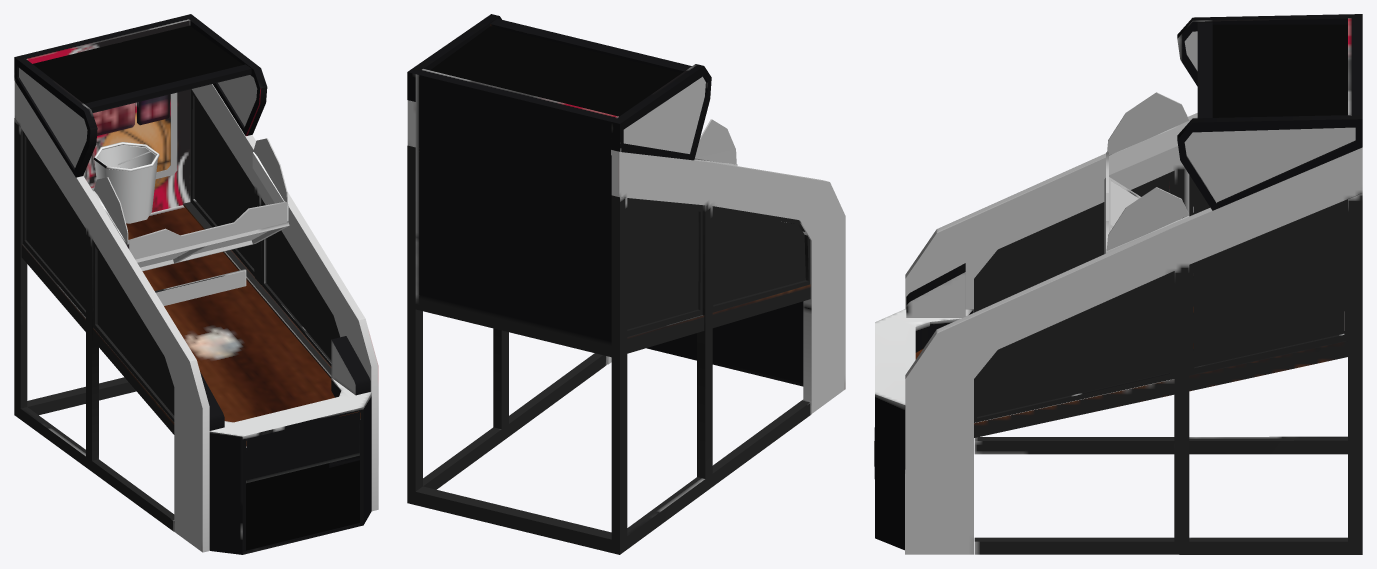
The model's file is LC_3117_Game_MachineE_LOD1.FBX.
3 views of the same model, side by side, from view 1: azimuth 30°, elevation 25°; view 2: azimuth 150°, elevation 25°; view 3: azimuth 270°, elevation 25° (orthographic). The views are drawn at different scales.
Parts seen in each view (by area): view 1: LC_3117_Game_MachineE_LOD1; view 2: LC_3117_Game_MachineE_LOD1; view 3: LC_3117_Game_MachineE_LOD1.
Boxes of the visible parts, left/top/right/bottom form: LC_3117_Game_MachineE_LOD1: left=14, top=14, right=378, bottom=554; LC_3117_Game_MachineE_LOD1: left=407, top=14, right=845, bottom=554; LC_3117_Game_MachineE_LOD1: left=874, top=14, right=1362, bottom=554.
Bounding box in the file's own units: 121 × 235 × 239.
